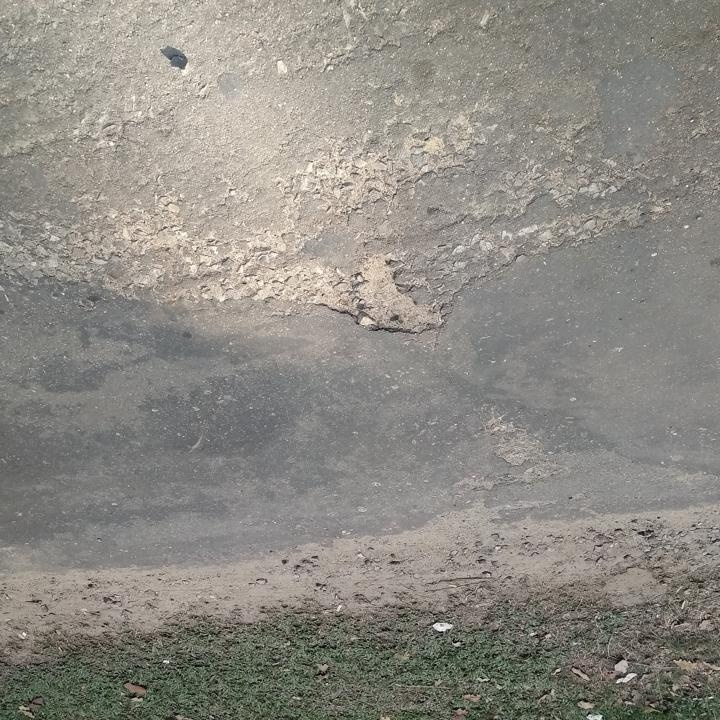pothole: (346, 248, 450, 337)
